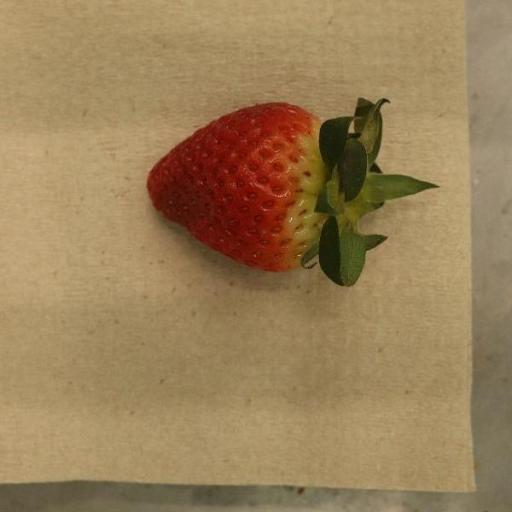Strawberry: (147, 98, 440, 288)
